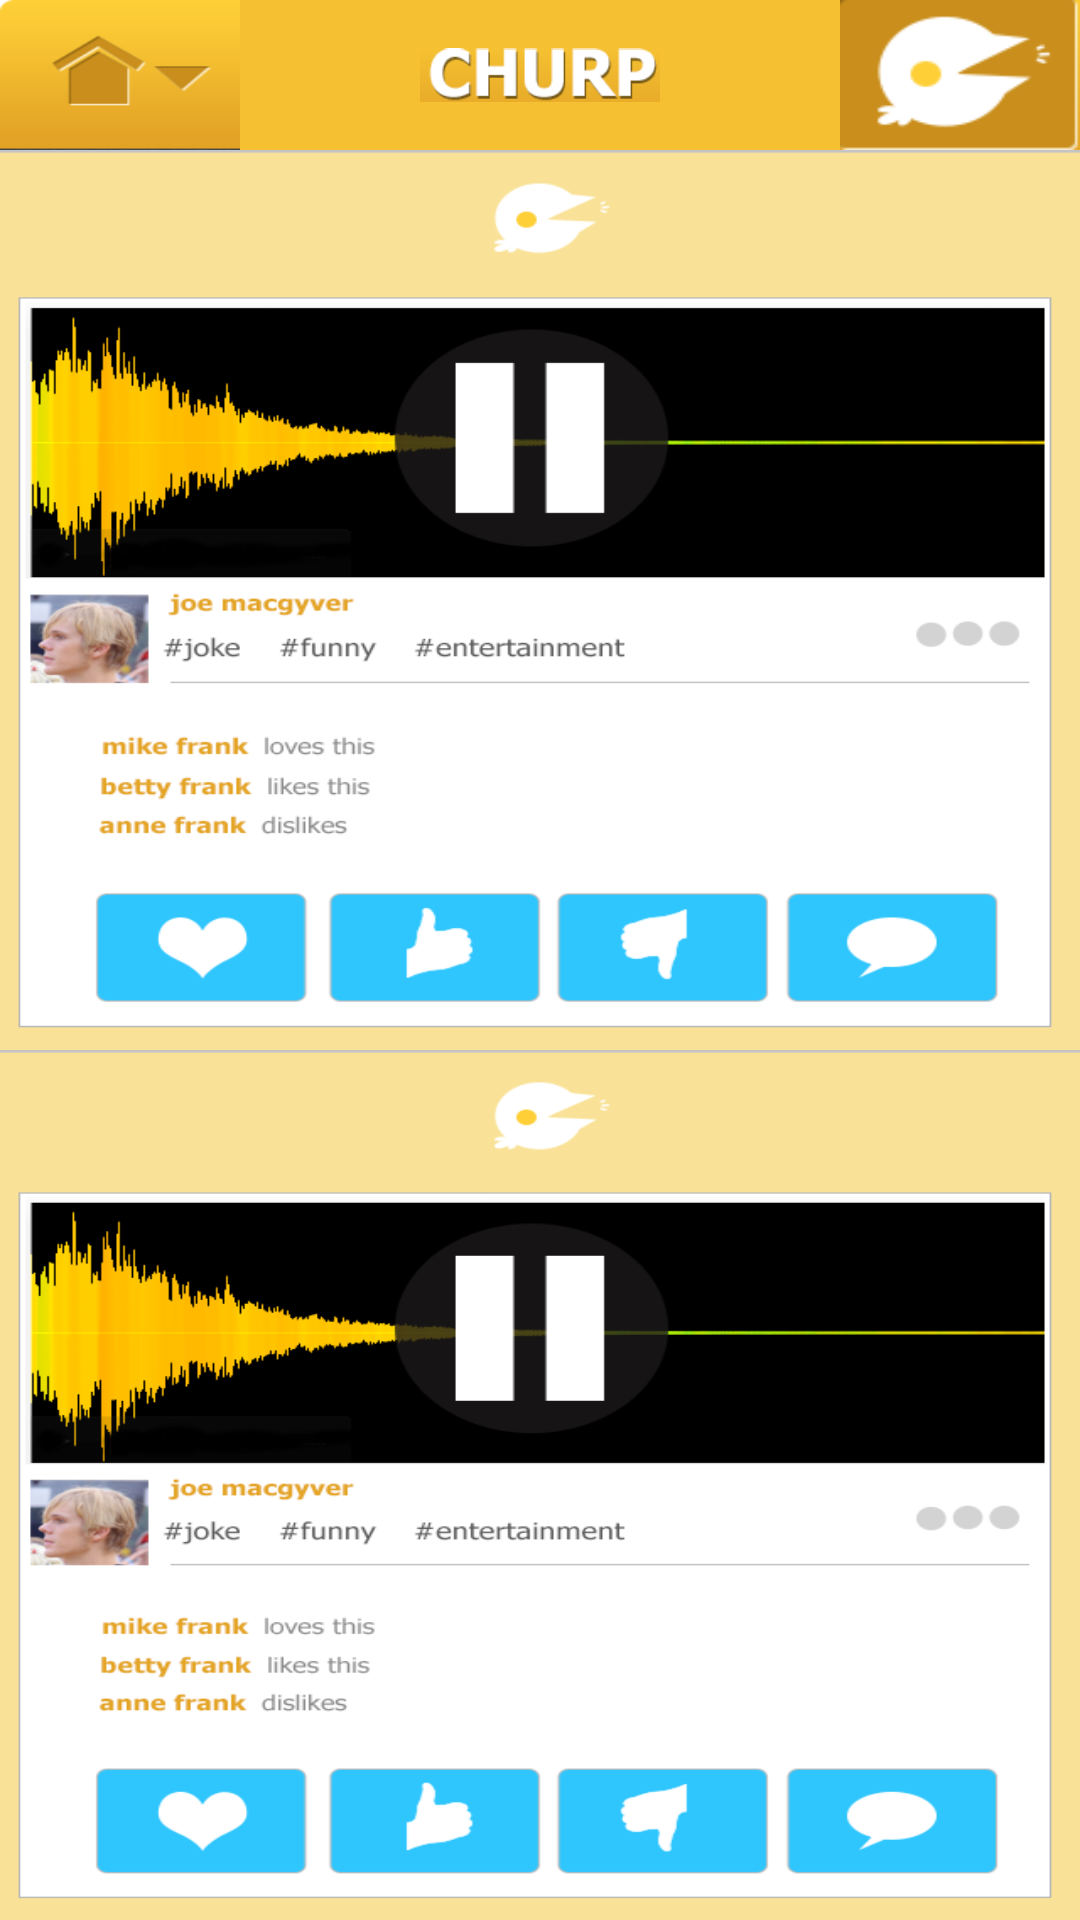

Point at icon controls on the screen. Image size 1080px×1920px, points as (x,y).
churp: (960,75)
